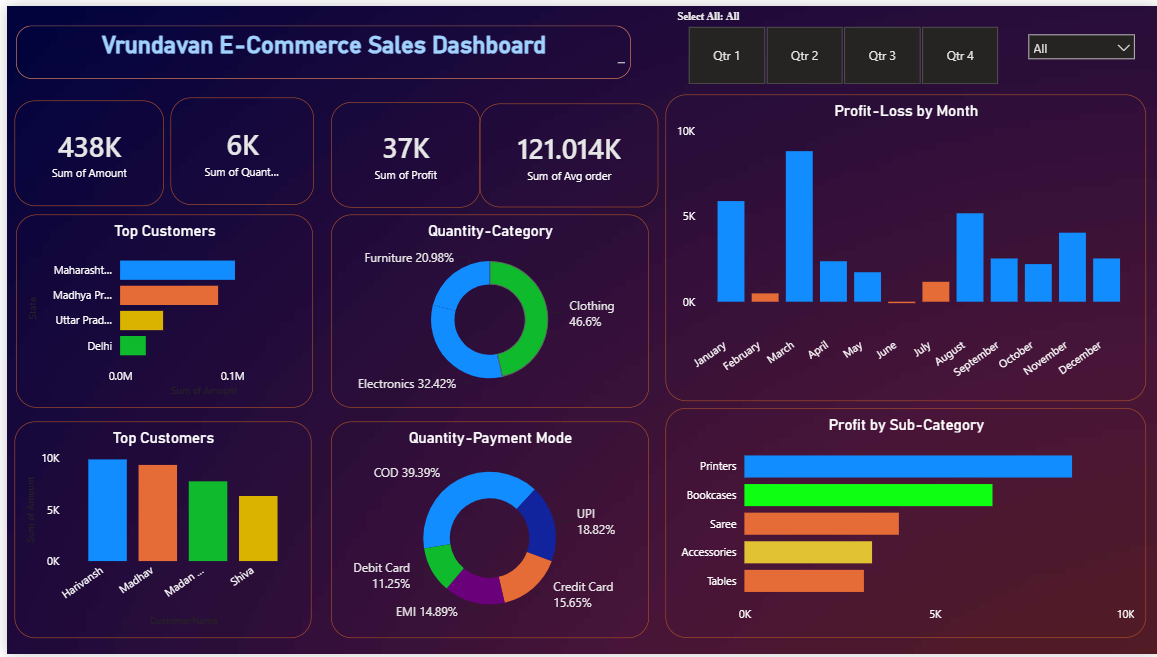

The page's visual inventory and layout, read from the dashboard file:
{"tool":"powerbi","page":{"name":"Page 1","canvas":[1280,720],"ordinal":0},"visuals":[{"type":"columnChart","title":"Profit-Loss by Month","fields":{"Category":["Orders.Order Date.Variation.Date Hierarchy.Month"],"Y":["Sum(Details.Profit)"]},"box":[731.9,97.9,534,340.4],"z":0},{"type":"clusteredBarChart","title":"Profit by Sub-Category","fields":{"Category":["Details.Sub-Category"],"Y":["Sum(Details.Profit)"]},"box":[731.9,446.8,534,255.3],"z":1000},{"type":"textbox","title":"Vrundavan E-Commerce Sales  Dashboard","box":[10.6,21.3,683,59.6],"z":2000},{"type":"donutChart","title":"Quantity-Category","fields":{"Y":["Sum(Details.Quantity)"],"Category":["Details.Category"]},"box":[359.6,231.9,353.2,214.9],"z":3000},{"type":"donutChart","title":"Quantity-Payment Mode","fields":{"Category":["Details.PaymentMode"],"Y":["Sum(Details.Quantity)"]},"box":[359.6,461.7,353.2,240.4],"z":4000},{"type":"columnChart","title":"Top Customers","fields":{"Category":["Orders.CustomerName"],"Y":["Sum(Details.Amount)"]},"box":[8.5,461.7,329.8,240.4],"z":5000},{"type":"barChart","title":"Top Customers","fields":{"Y":["Sum(Details.Amount)"],"Category":["Orders.State"]},"box":[10.6,231.9,329.8,214.9],"z":6000},{"type":"cardVisual","fields":{"Data":["Sum(Details.Amount)"]},"box":[8.5,104.3,166,117],"z":7000},{"type":"cardVisual","fields":{"Data":["Sum(Details.Quantity)"]},"box":[180.9,102.1,159.6,119.1],"z":8000},{"type":"cardVisual","fields":{"Data":["Sum(Details.Profit)"]},"box":[359.6,106.4,166,117],"z":9000},{"type":"cardVisual","fields":{"Data":["Sum(Details.Avg order value)"]},"box":[525.4,107.7,198.4,115.3],"z":10000},{"type":"slicer","fields":{"Values":["Orders.Order Date.Variation.Date Hierarchy.Quarter"]},"box":[731.9,0,393.6,93.6],"z":11000},{"type":"slicer","fields":{"Values":["Orders.State"]},"box":[1125.5,21.3,138.3,44.7],"z":12000}]}

Visuals, with their boxes in screenshot pixels (x1, y1, x2, y2), scaled from the page's 1280x720 canvas onto the 1157x657 screenshot:
"Profit-Loss by Month" columnChart: {"left": 662, "top": 89, "right": 1144, "bottom": 400}
"Profit by Sub-Category" clusteredBarChart: {"left": 662, "top": 408, "right": 1144, "bottom": 641}
"Vrundavan E-Commerce Sales  Dashboard" textbox: {"left": 10, "top": 19, "right": 627, "bottom": 74}
"Quantity-Category" donutChart: {"left": 325, "top": 212, "right": 644, "bottom": 408}
"Quantity-Payment Mode" donutChart: {"left": 325, "top": 421, "right": 644, "bottom": 641}
"Top Customers" columnChart: {"left": 8, "top": 421, "right": 306, "bottom": 641}
"Top Customers" barChart: {"left": 10, "top": 212, "right": 308, "bottom": 408}
cardVisual - Sum(Details.Amount): {"left": 8, "top": 95, "right": 158, "bottom": 202}
cardVisual - Sum(Details.Quantity): {"left": 164, "top": 93, "right": 308, "bottom": 202}
cardVisual - Sum(Details.Profit): {"left": 325, "top": 97, "right": 475, "bottom": 204}
cardVisual - Sum(Details.Avg order value): {"left": 475, "top": 98, "right": 654, "bottom": 203}
slicer - Orders.Order Date.Variation.Date Hierarchy.Quarter: {"left": 662, "top": 0, "right": 1017, "bottom": 85}
slicer - Orders.State: {"left": 1017, "top": 19, "right": 1142, "bottom": 60}
